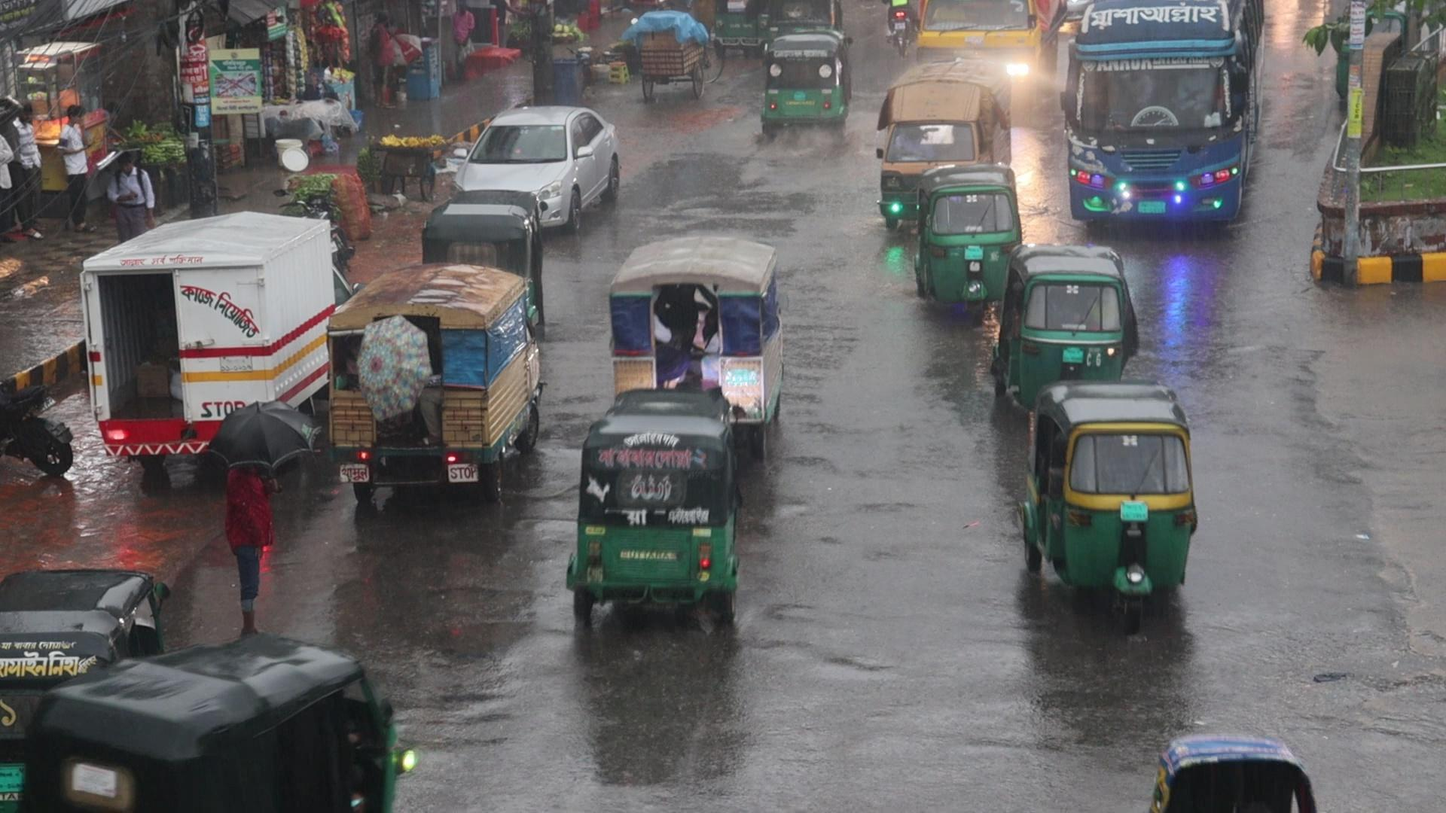Bus: (1060, 0, 1268, 226)
Truck: (323, 260, 545, 500), (609, 235, 783, 402), (877, 60, 1013, 186)
